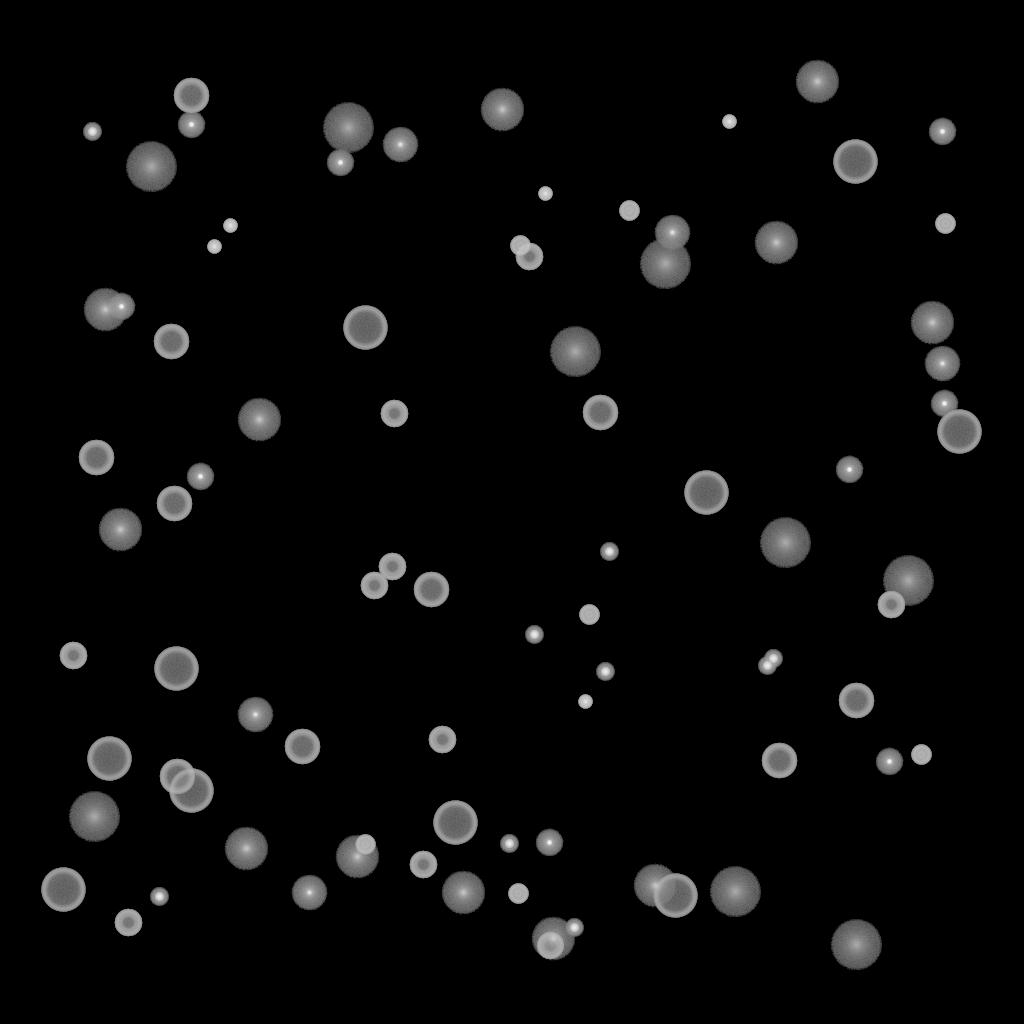depth:-10: (875, 748, 903, 776), (928, 118, 956, 146), (535, 829, 563, 857), (186, 463, 214, 491), (835, 456, 863, 484), (107, 293, 135, 321), (326, 149, 354, 177), (177, 111, 205, 139), (930, 390, 958, 418)
depth:-20: (83, 123, 101, 141), (565, 919, 583, 937), (758, 657, 776, 675), (500, 835, 518, 853), (600, 543, 618, 561), (525, 626, 543, 644), (150, 888, 168, 906), (764, 650, 782, 668), (596, 663, 614, 681)
depth:-30: (722, 115, 736, 129), (207, 240, 221, 254), (538, 187, 552, 201), (578, 695, 592, 709), (223, 219, 237, 233)
depth:-40: (619, 201, 639, 221), (355, 835, 375, 855), (579, 605, 599, 625), (911, 745, 931, 765), (508, 884, 528, 904), (935, 214, 955, 234), (510, 236, 530, 256)
depth:-50: (428, 726, 456, 754), (380, 400, 408, 428), (114, 909, 142, 937), (536, 932, 564, 960), (409, 851, 437, 879), (378, 553, 406, 581), (59, 642, 87, 670), (515, 243, 543, 271), (877, 591, 905, 619), (360, 572, 388, 600)
depth:-60: (173, 78, 209, 114), (284, 729, 320, 765), (156, 486, 192, 522), (582, 395, 618, 431), (153, 324, 189, 360), (761, 743, 797, 779), (78, 440, 114, 476), (413, 572, 449, 608), (159, 759, 195, 795), (838, 683, 874, 719)
depth:-70: (433, 801, 477, 845), (87, 737, 131, 781), (653, 874, 697, 918), (684, 471, 728, 515), (41, 868, 85, 912), (154, 647, 198, 691), (169, 769, 213, 813), (937, 410, 981, 454), (343, 306, 387, 350), (833, 140, 877, 184)
depth:0: (924, 346, 960, 382), (654, 215, 690, 251), (291, 875, 327, 911), (382, 127, 418, 163), (237, 697, 273, 733)
depth:10: (98, 508, 142, 552), (754, 221, 798, 265), (335, 835, 379, 879), (910, 301, 954, 345), (480, 88, 524, 132), (795, 60, 839, 104), (531, 917, 575, 961), (83, 288, 127, 332), (237, 398, 281, 442), (224, 827, 268, 871), (441, 871, 485, 915), (633, 864, 677, 908)
depth:20: (549, 327, 601, 377), (639, 239, 691, 289), (68, 792, 120, 842), (830, 920, 882, 970), (882, 556, 934, 606), (709, 867, 761, 917), (125, 142, 177, 192), (322, 103, 374, 153), (759, 518, 811, 568)
